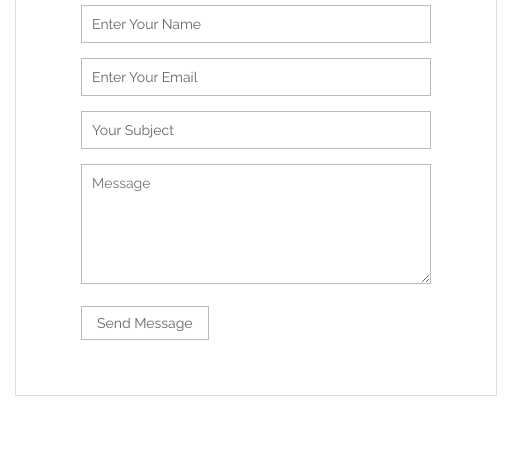
Test: contact page › renders contact form with invalid subject error
Type "Joshua" into the field with placeholder "Enter Your Name".
click(256, 24); type("Joshua")  # box [81,5,431,43]
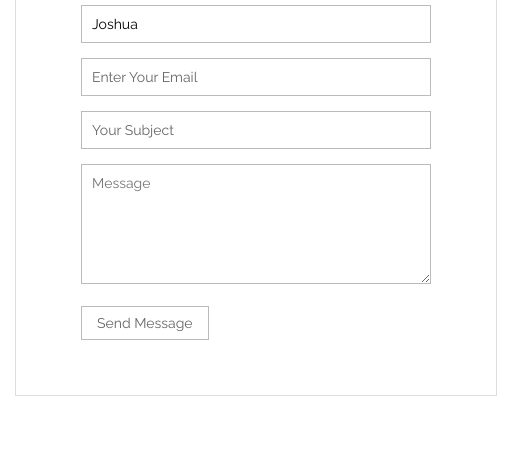
Type "jo@jo" into the field with placeholder "Enter Your Email".
click(256, 77); type("jo@jo")  # box [81,58,431,96]
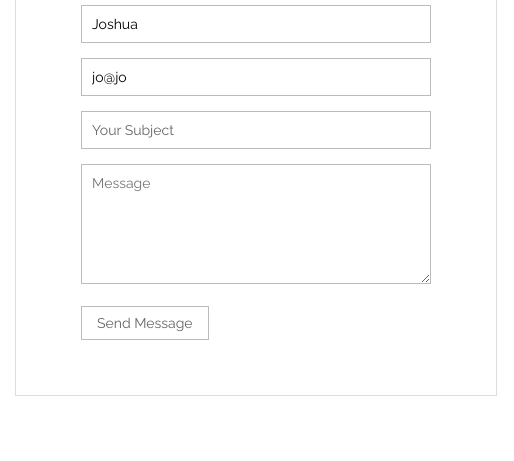
Type "Hi" into the field with placeholder "Your Subject".
click(256, 130); type("Hi")  # box [81,111,431,149]
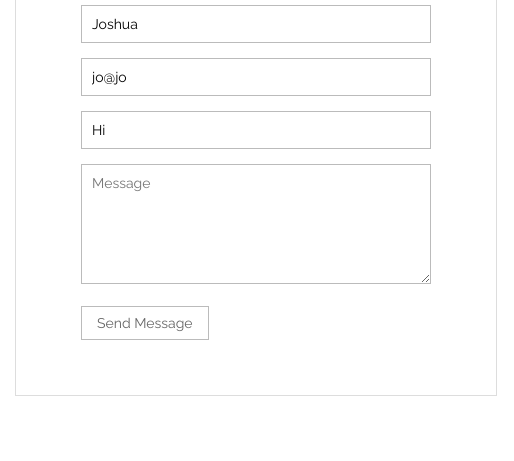
Type "React.js is the most popular frontend framework" into the text box with placeholder "Message".
click(256, 224); type("React.js is the most popular frontend framework")  # box [81,164,431,284]
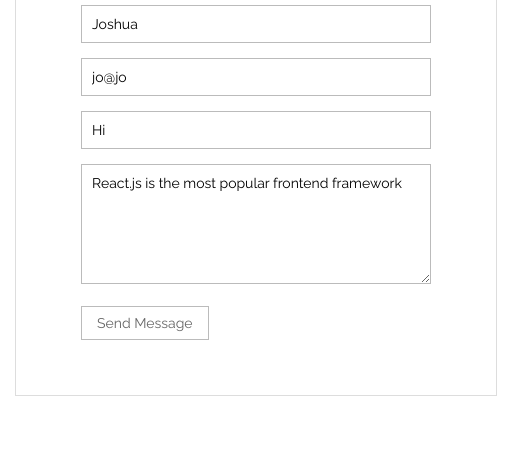
Click the button "Send Message".
click(145, 323)  # box [81,306,209,340]
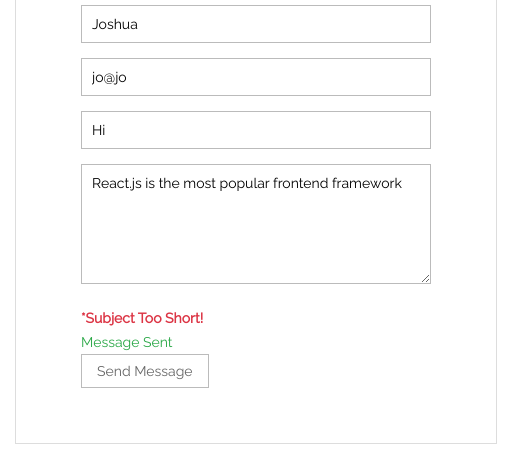
Check: the text with test id "error" reads "*Subject Too Short!", box [81,310,203,326]
